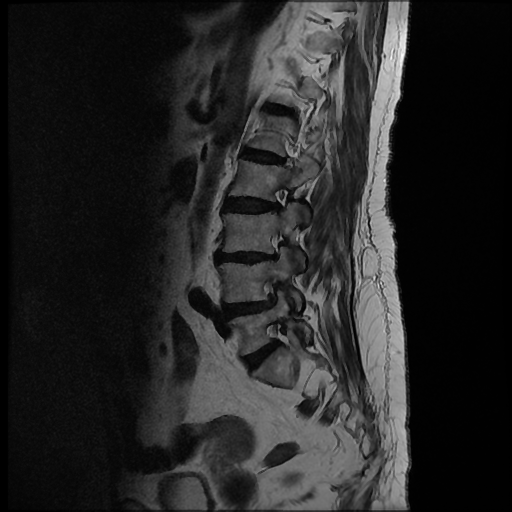LFS0: (255, 314, 301, 362), (260, 180, 305, 226)
